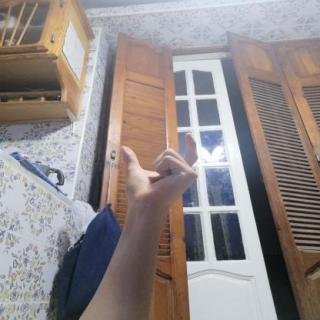NOON: (106, 123, 212, 220)
